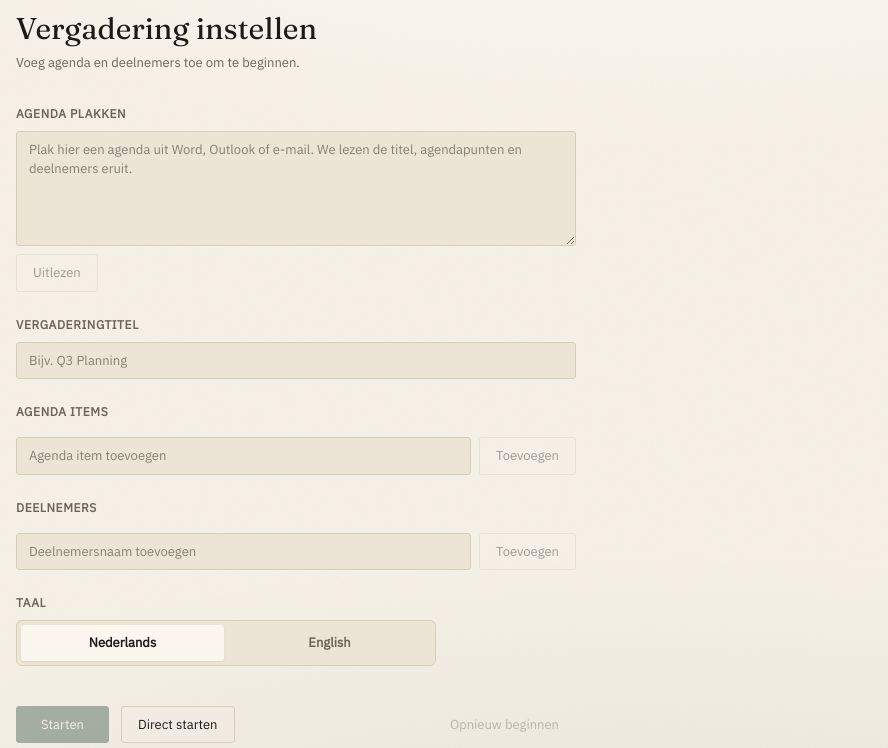
Test: DraftScreen › allows removing a participant
Type "Bob" into the field labelled "Deelnemersnaam toevoegen" at (244, 551), box [16,532,471,570]
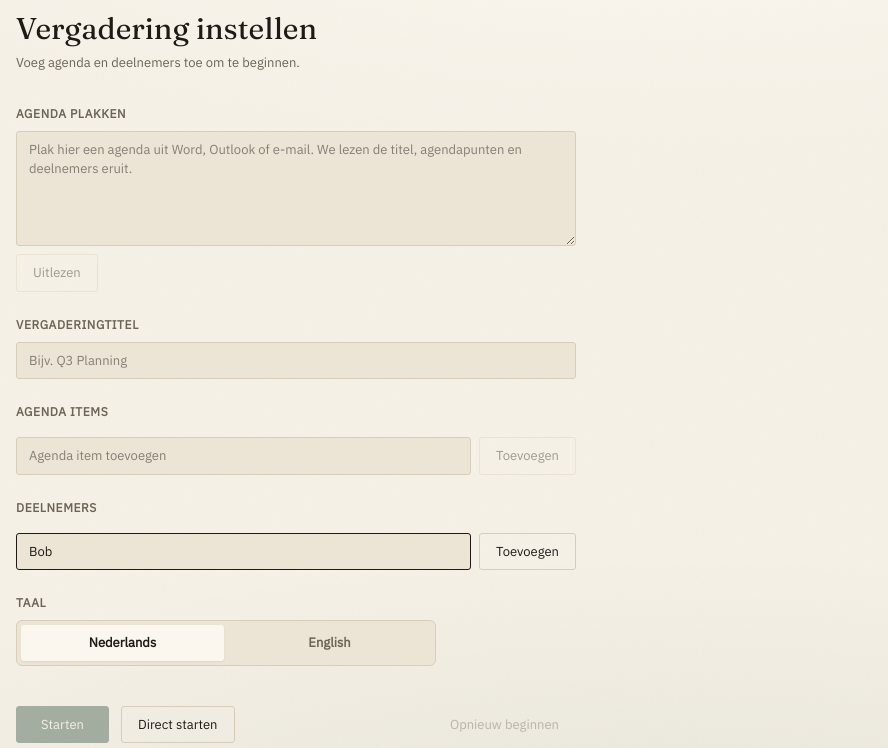
Press Enter
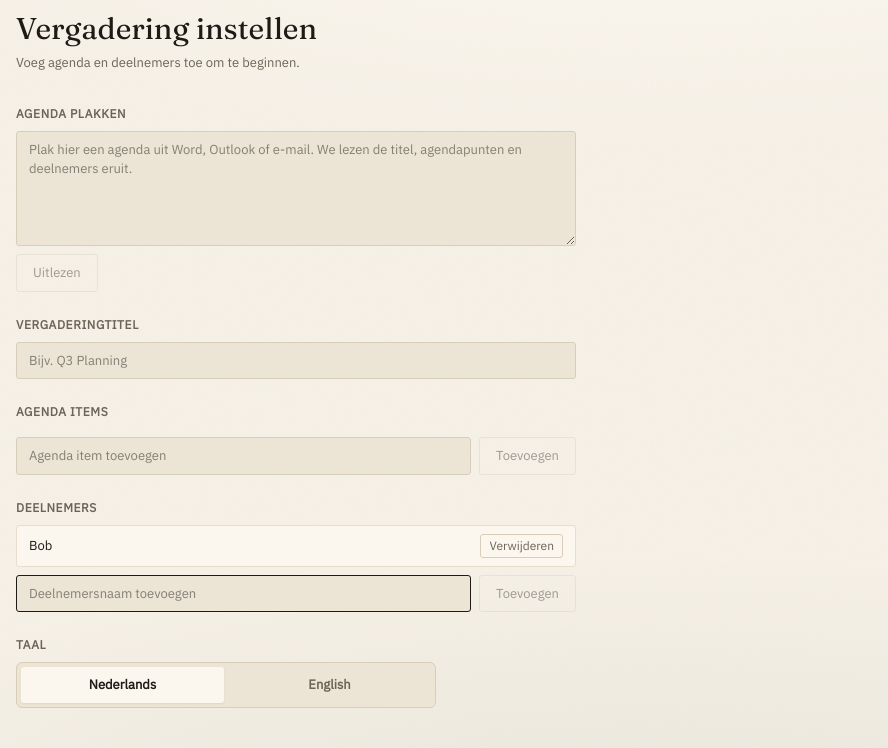
Click the button "Verwijderen" at (522, 546), box [480,534,563,558]
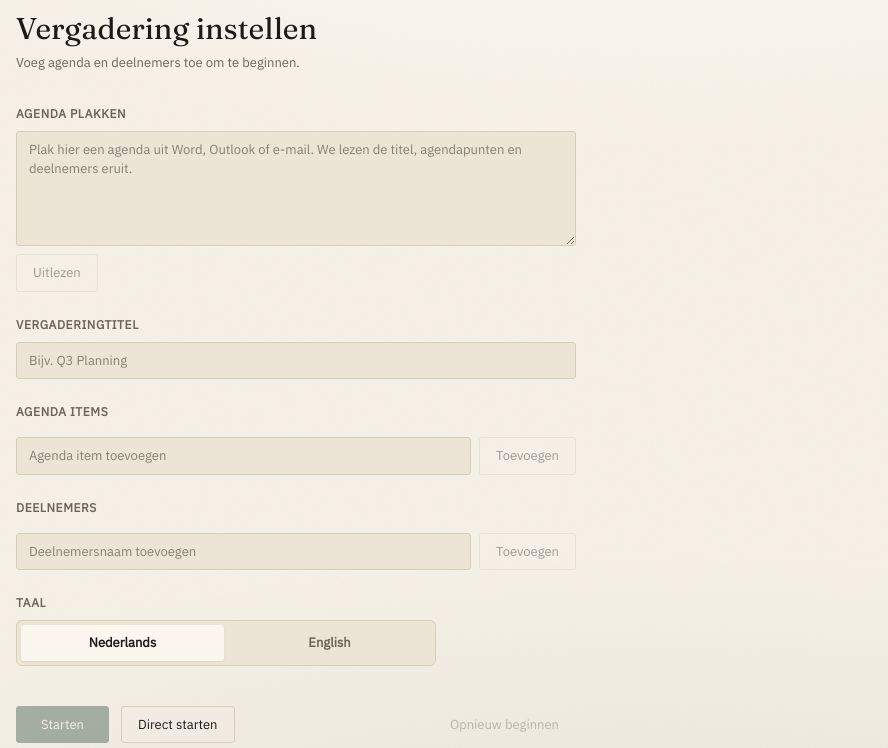
Now the text "Bob" is gone
